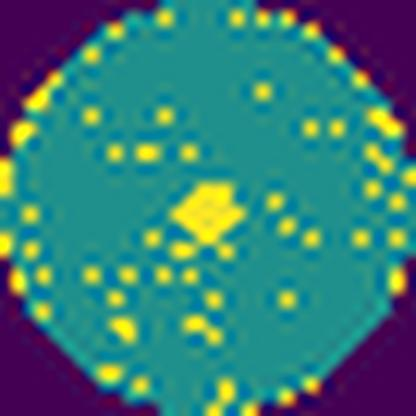Center: (164, 180, 244, 264)
